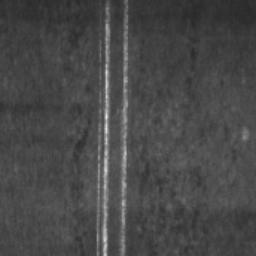Bright scratch: (96, 0, 110, 256), (119, 0, 128, 256)
